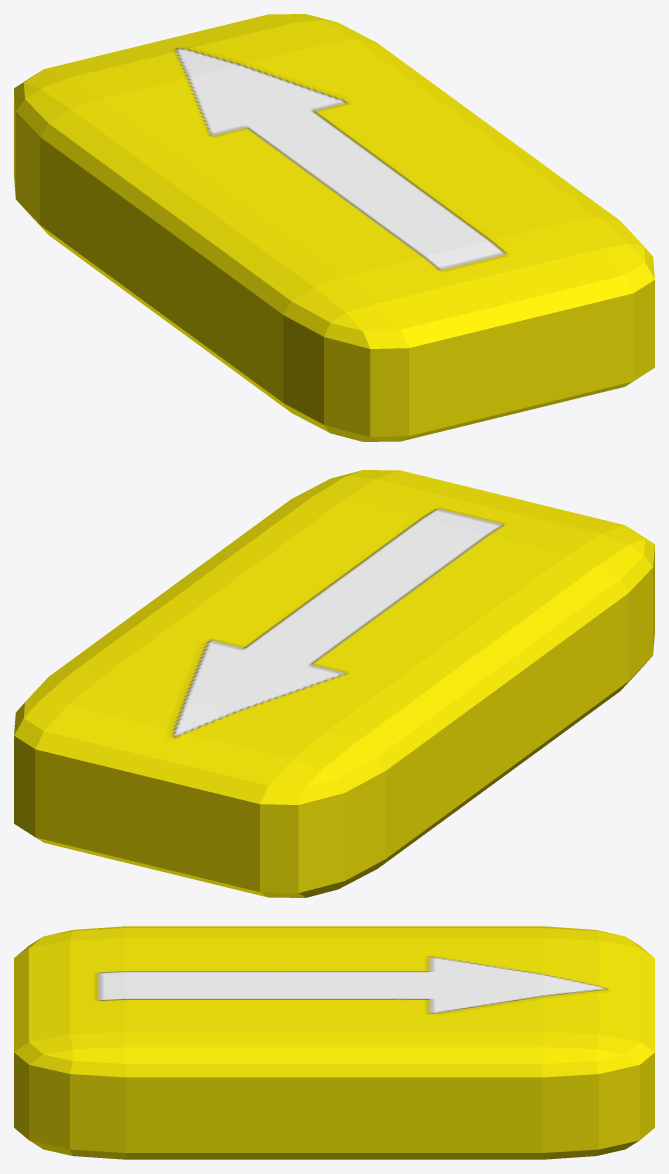
Rendered from LargeCube.fbx.
The picture shows the model from 3 angles, top to bottom: view 1: azimuth 30°, elevation 25°; view 2: azimuth 150°, elevation 25°; view 3: azimuth 270°, elevation 25°; orthographic projection. The views are drawn at different scales.
Visible parts, largest first — view 1: Cube; view 2: Cube; view 3: Cube.
Part boxes in pixels (x1,y1,x2,y2): Cube: [14, 14, 654, 441]; Cube: [14, 470, 654, 897]; Cube: [14, 926, 654, 1159].
Bounding box in the file's own units: 160 × 60 × 300.
Materials: 1 (1 with a texture image).
